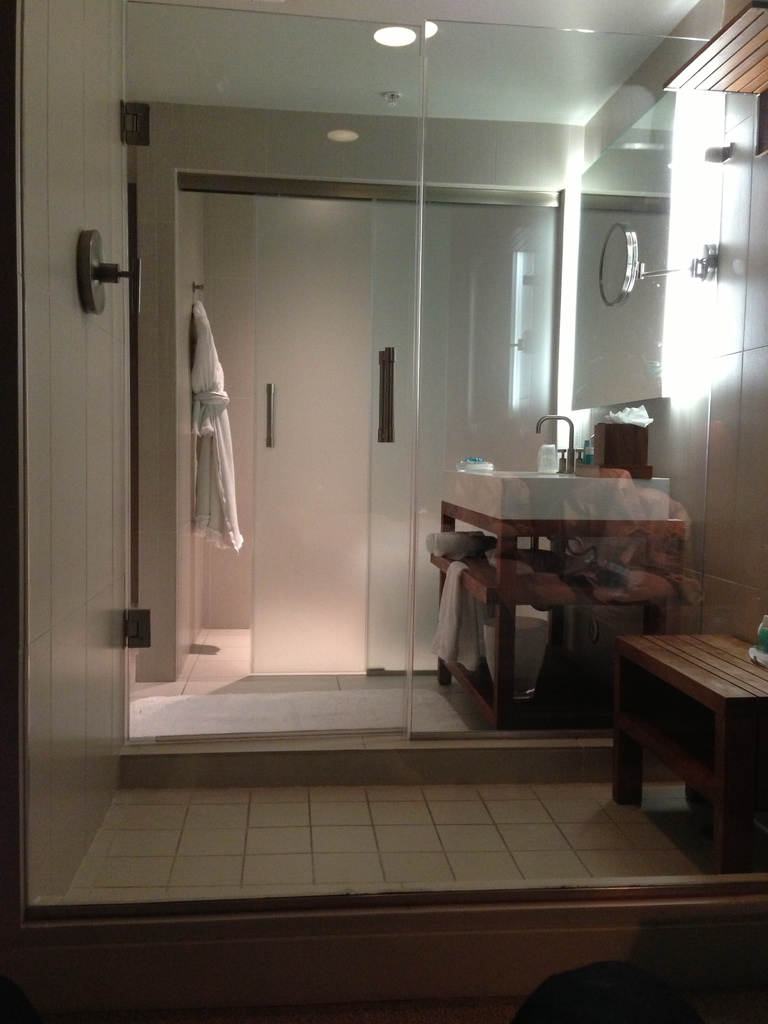Door: (399, 16, 765, 742), (248, 189, 570, 679)
